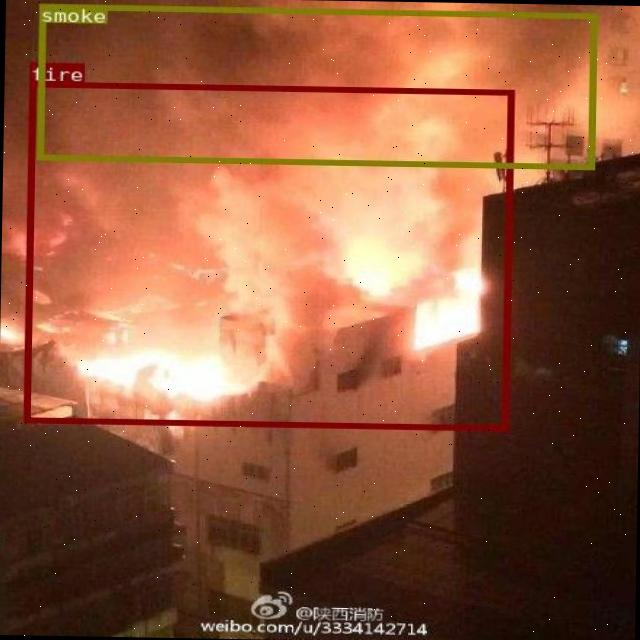fire: (22, 80, 513, 429)
smoke: (36, 2, 596, 169)
